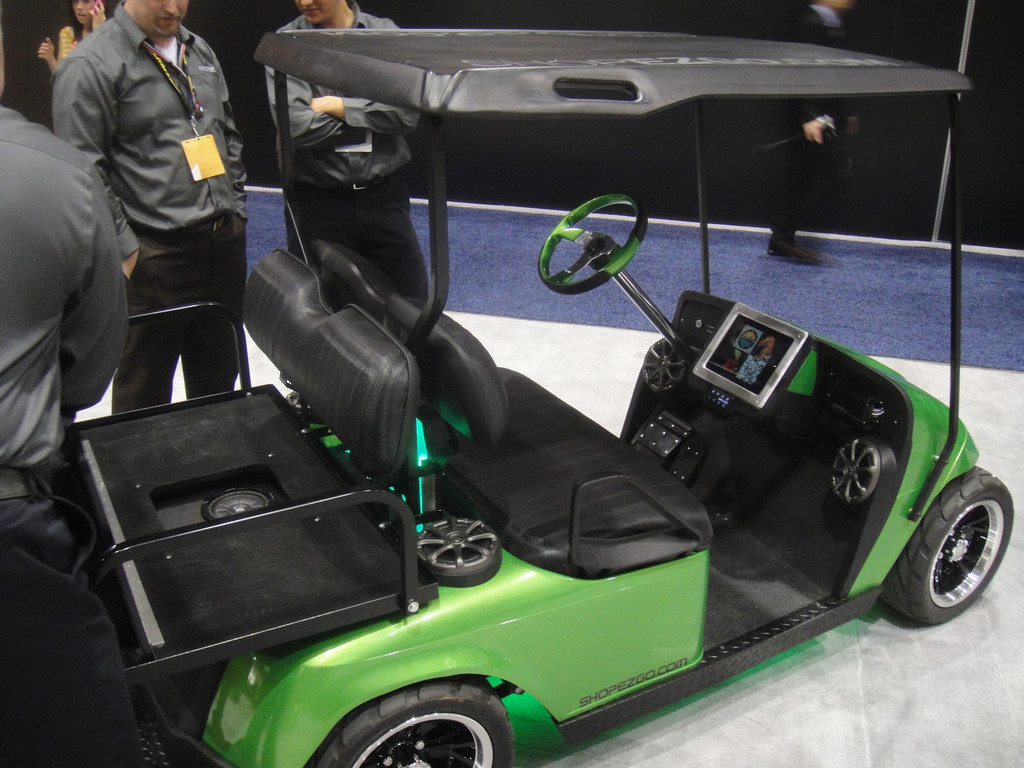Car: (51, 29, 1014, 767)
